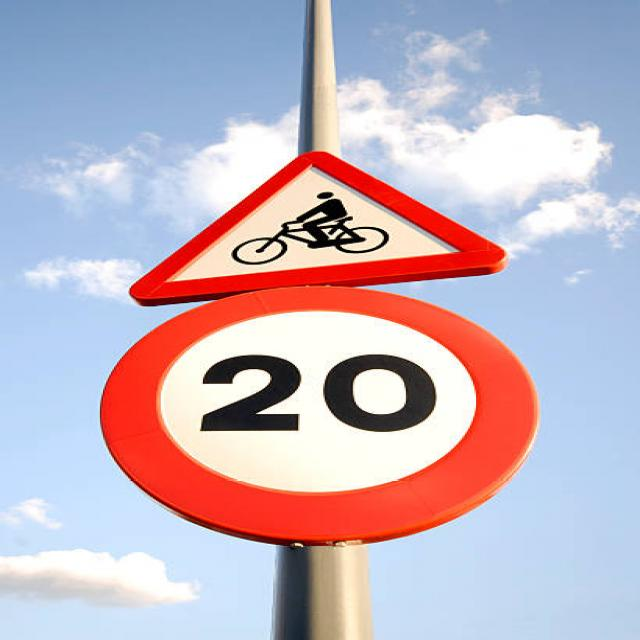speed_limit_20: (94, 288, 556, 542)
